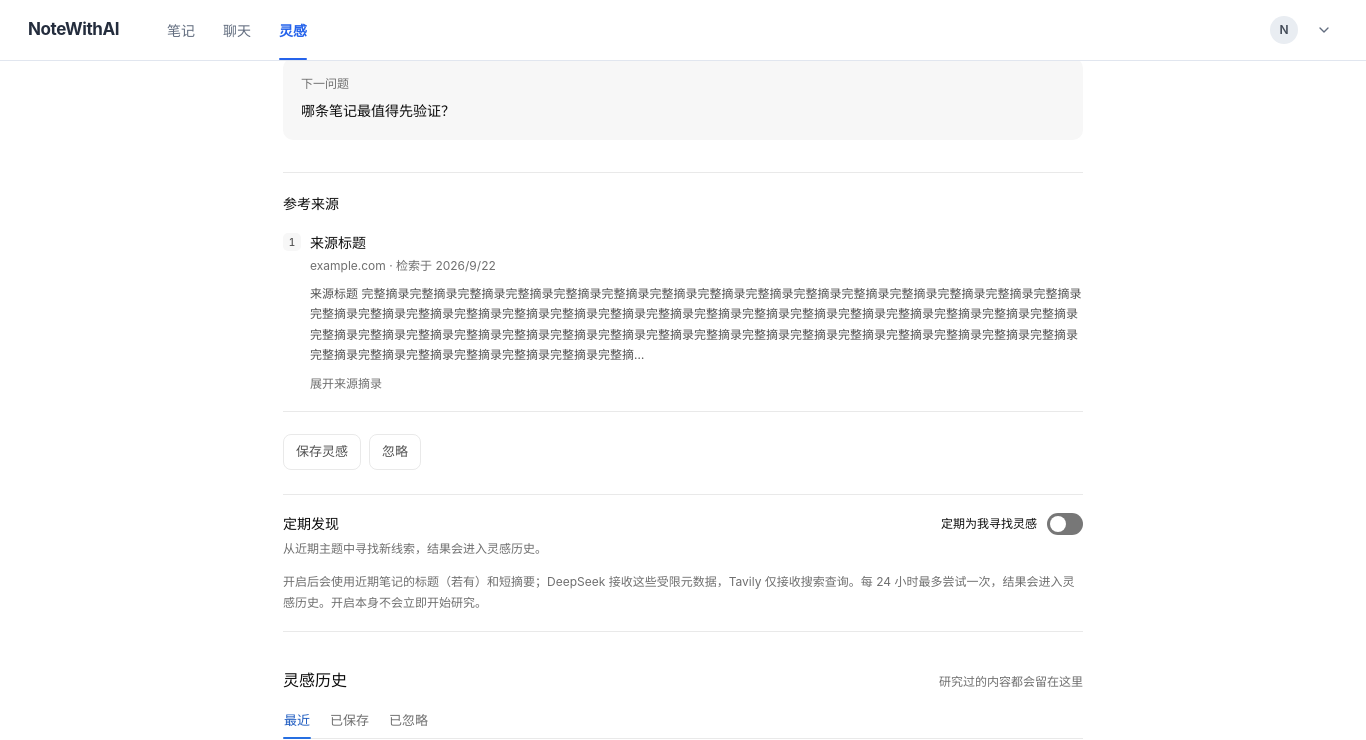
Test: InspirationPage › starts source excerpts collapsed and resets them when opening another item with the same source
The width and height of the screenshot is (1366, 740).
(page scrolled)
Click the button "展开来源摘录". click: click(346, 384)
box: [310, 371, 382, 397]
(page scrolled)
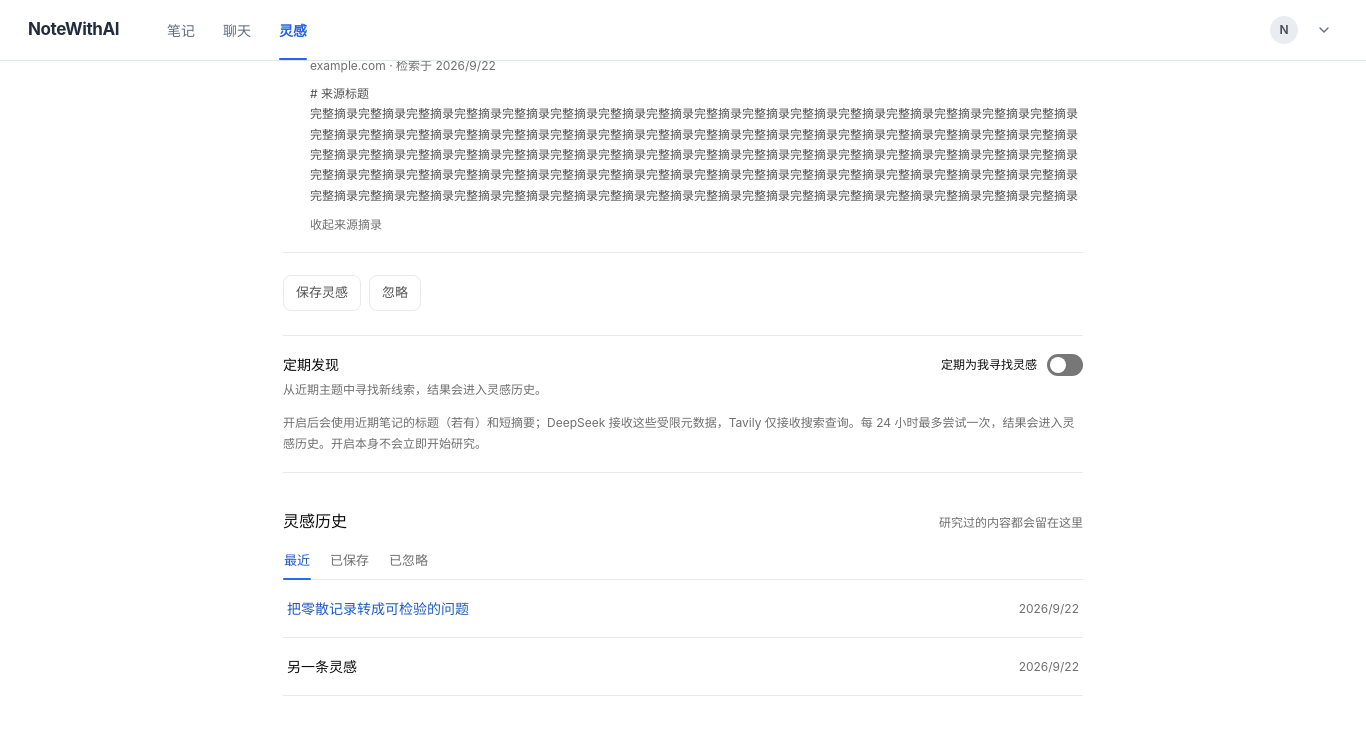
Check: the button "收起来源摘录" is shown, box [310, 212, 382, 238]
Click the button "另一条灵感 2026/9/22". click: click(322, 667)
box: [283, 638, 1083, 695]
(page scrolled)
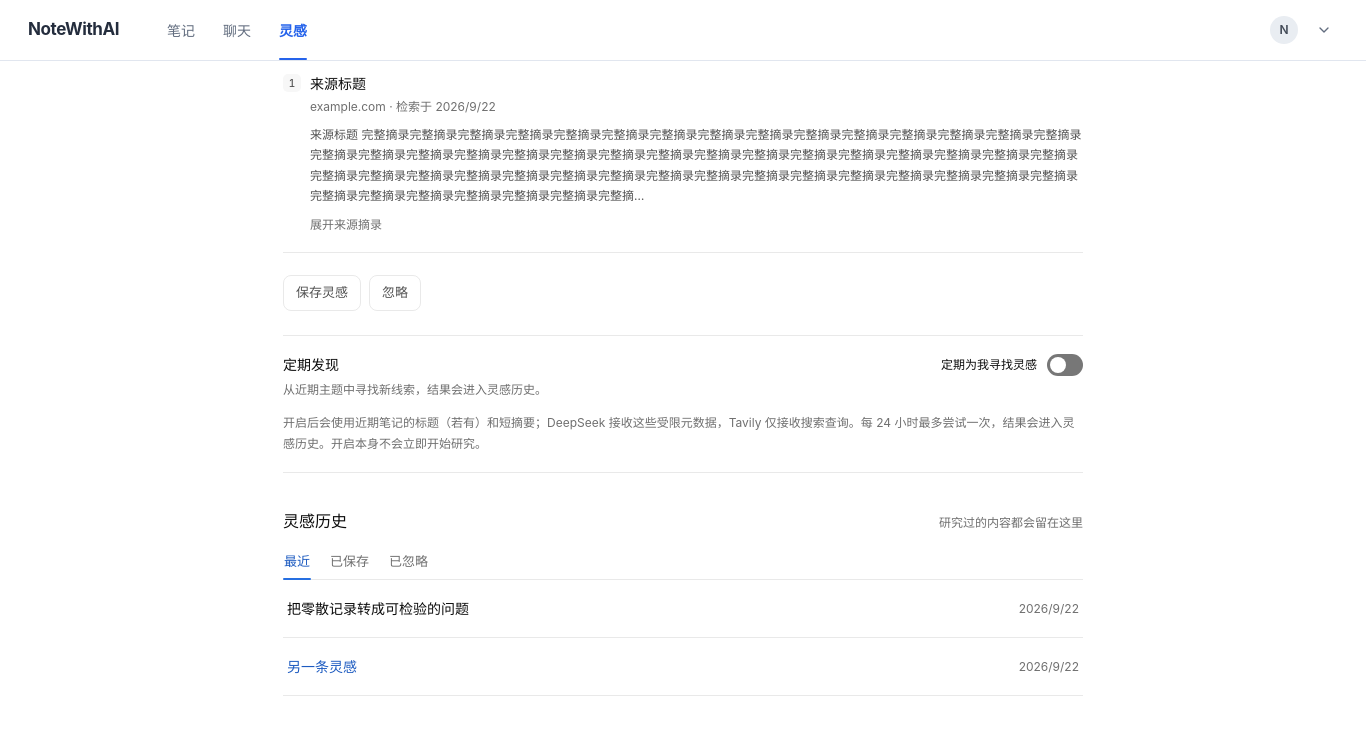
Check: the button "展开来源摘录" is collapsed, box [310, 212, 382, 238]
Check: the button "收起来源摘录" is gone
